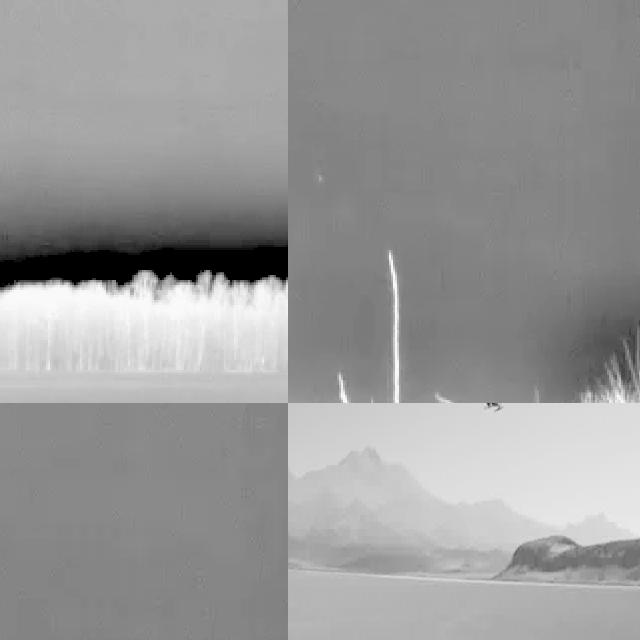0: (311, 166, 335, 199)
drone: (466, 403, 523, 416)
